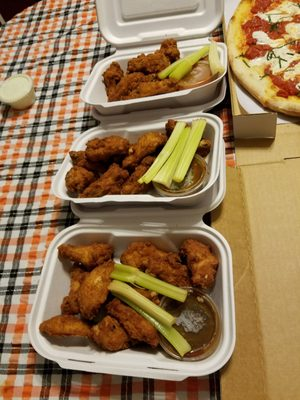sushi: (27, 222, 237, 390), (50, 113, 226, 215), (80, 38, 228, 117)
